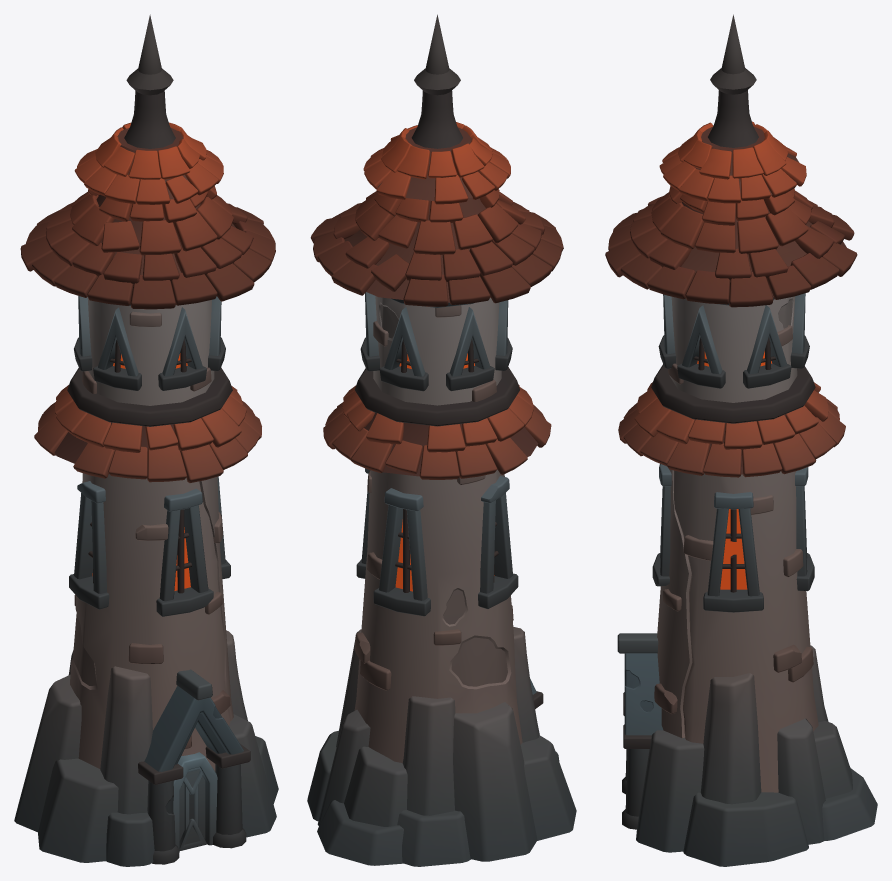
The model's file is tour-4.glb.
3 views of the same model, side by side, from view 1: azimuth 30°, elevation 25°; view 2: azimuth 150°, elevation 25°; view 3: azimuth 270°, elevation 25° (orthographic).
Visible parts, largest first — view 1: TowerBig_001; view 2: TowerBig_001; view 3: TowerBig_001.
Boxes of the visible parts, x1,y1,x2,y2 form: TowerBig_001: (14,14,278,866); TowerBig_001: (307,14,576,866); TowerBig_001: (605,14,877,866).
Bounding box in the file's own units: 15.01 × 46.98 × 14.62.
Materials: 2 (2 with a texture image).
